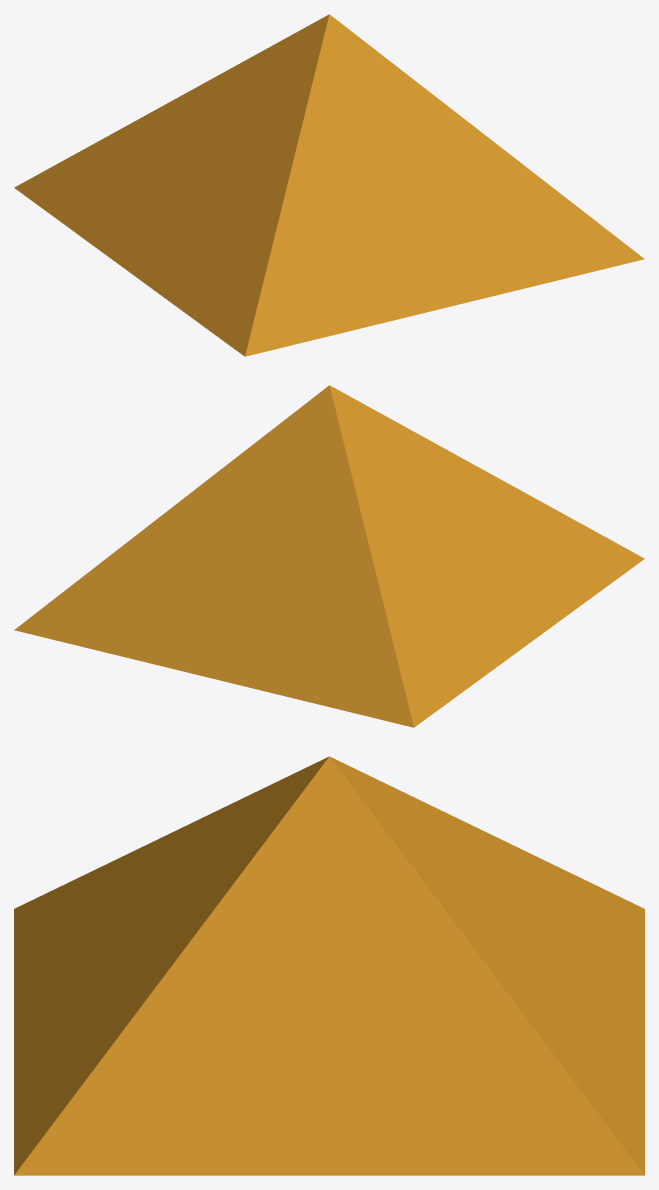
File: Roof-Mid-4x4x2-Point.FBX
The picture shows the model from 3 angles, top to bottom: view 1: azimuth 30°, elevation 25°; view 2: azimuth 150°, elevation 25°; view 3: azimuth 270°, elevation 25°; orthographic projection. The views are drawn at different scales.
Parts seen in each view (by area): view 1: Roof-Mid-4x4x2-Point; view 2: Roof-Mid-4x4x2-Point; view 3: Roof-Mid-4x4x2-Point.
Boxes of the visible parts, <box> form: Roof-Mid-4x4x2-Point: <box>14,14,644,356</box>; Roof-Mid-4x4x2-Point: <box>14,385,644,727</box>; Roof-Mid-4x4x2-Point: <box>14,756,644,1175</box>.
Size of the model in its own units: 40 by 40 by 20.
